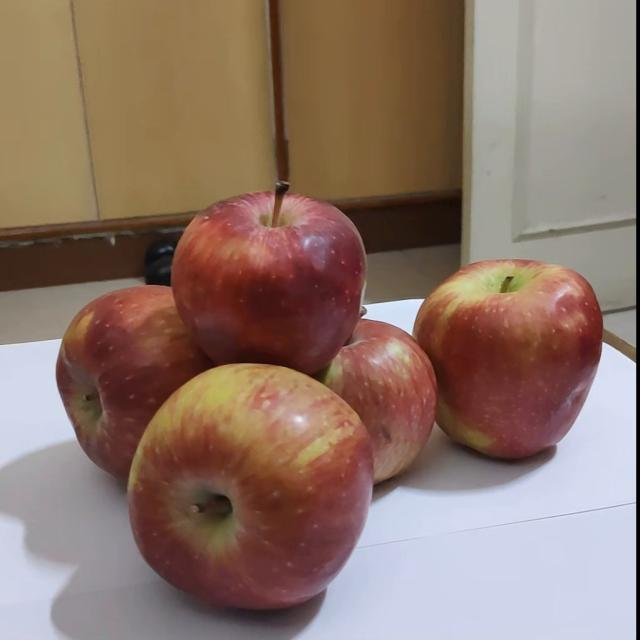apple: (120, 364, 384, 608), (397, 250, 616, 460), (166, 166, 372, 380), (53, 274, 246, 478), (284, 303, 442, 492)
